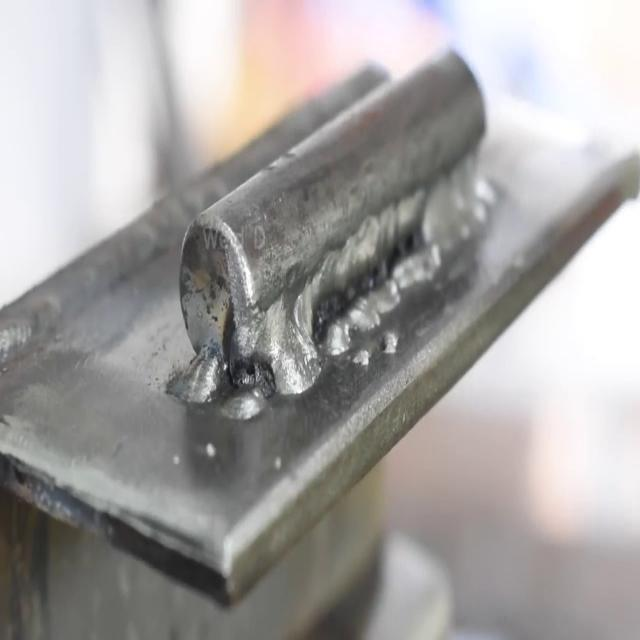Bad Welding: (170, 144, 495, 421)
